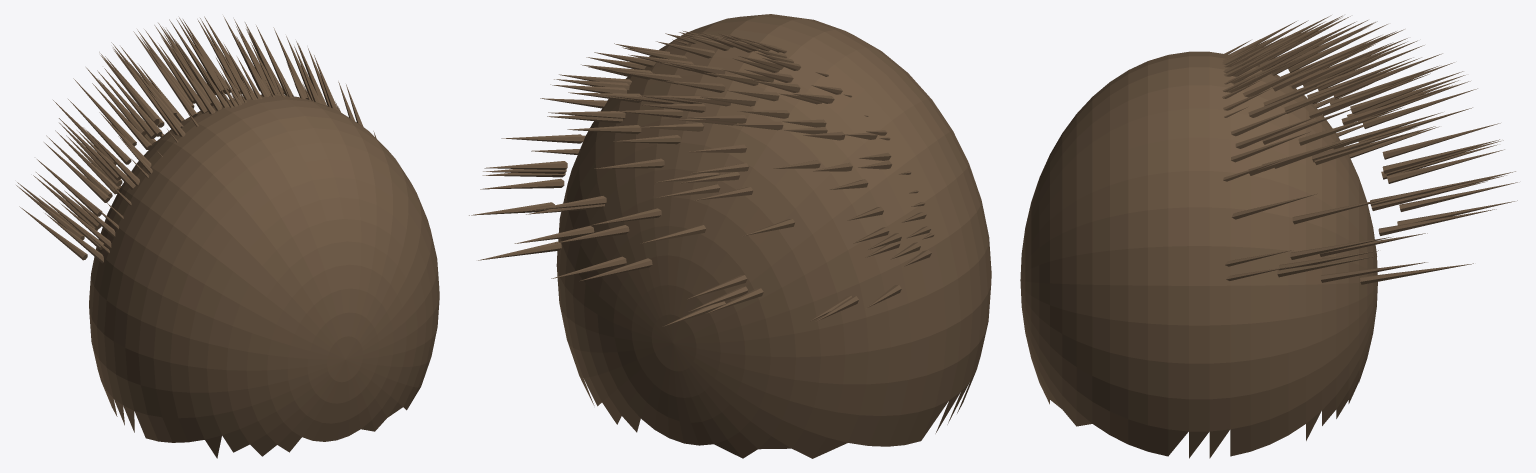
Rendered from slicked_back.glb.
The picture shows the model from 3 angles, left to right: view 1: azimuth 30°, elevation 25°; view 2: azimuth 150°, elevation 25°; view 3: azimuth 270°, elevation 25°; orthographic projection. The views are drawn at different scales.
Visible parts, largest first — view 1: part_000; view 2: part_000; view 3: part_000, part_058, part_055, part_044, part_063, part_095, part_024, part_056, part_064, part_149, part_019.
Part boxes in pixels (bbox=[...]): part_000: bbox=[89, 94, 439, 458]; part_000: bbox=[556, 14, 991, 458]; part_000: bbox=[1020, 51, 1377, 458]; part_058: bbox=[1382, 123, 1500, 159]; part_055: bbox=[1387, 149, 1504, 183]; part_044: bbox=[1350, 71, 1463, 113]; part_063: bbox=[1363, 88, 1477, 128]; part_095: bbox=[1399, 182, 1517, 211]; part_024: bbox=[1382, 139, 1499, 173]; part_056: bbox=[1378, 209, 1496, 235]; part_064: bbox=[1360, 263, 1473, 284]; part_149: bbox=[1341, 85, 1452, 125]; part_019: bbox=[1320, 262, 1427, 282].
Bounding box in the file's own units: 0.2146 × 0.2082 × 0.2662.
